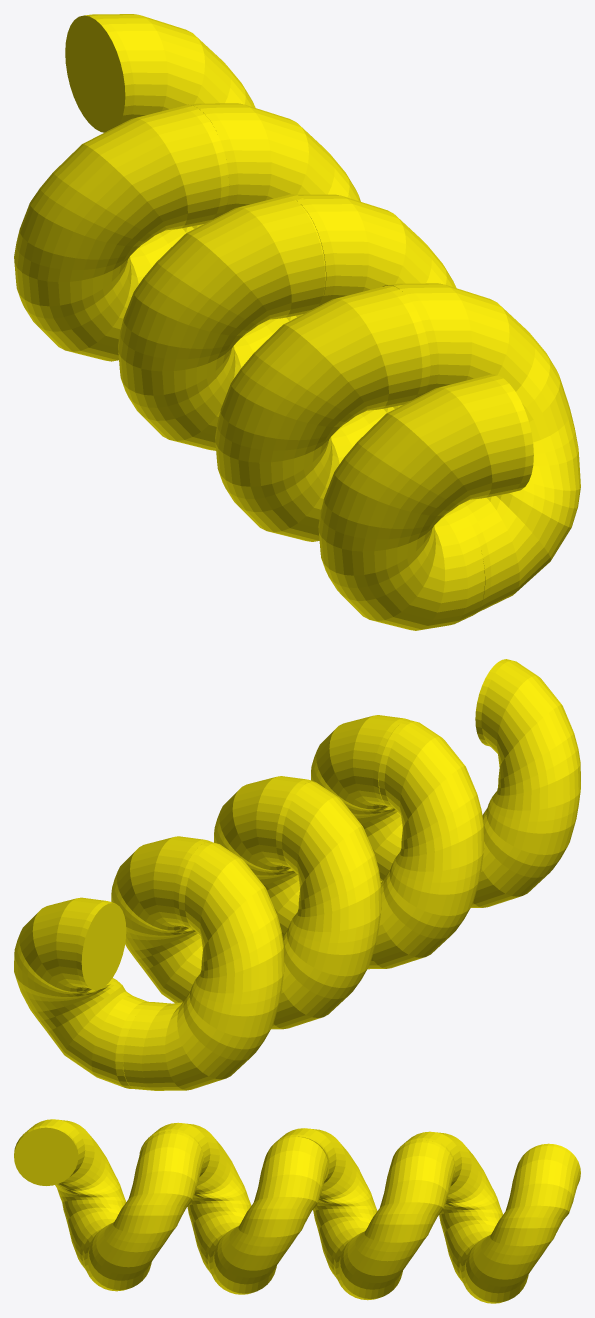
File: Resorte.fbx
3 views of the same model, one above another, from view 1: azimuth 30°, elevation 25°; view 2: azimuth 150°, elevation 25°; view 3: azimuth 270°, elevation 25° (orthographic). The views are drawn at different scales.
Visible parts, largest first — view 1: Circle.003; view 2: Circle.003; view 3: Circle.003.
Part boxes in pixels (<box>): Circle.003: <box>14,14,580,630</box>; Circle.003: <box>14,659,580,1090</box>; Circle.003: <box>14,1119,580,1303</box>.
Bounding box in the file's own units: 649 × 519 × 1761.
